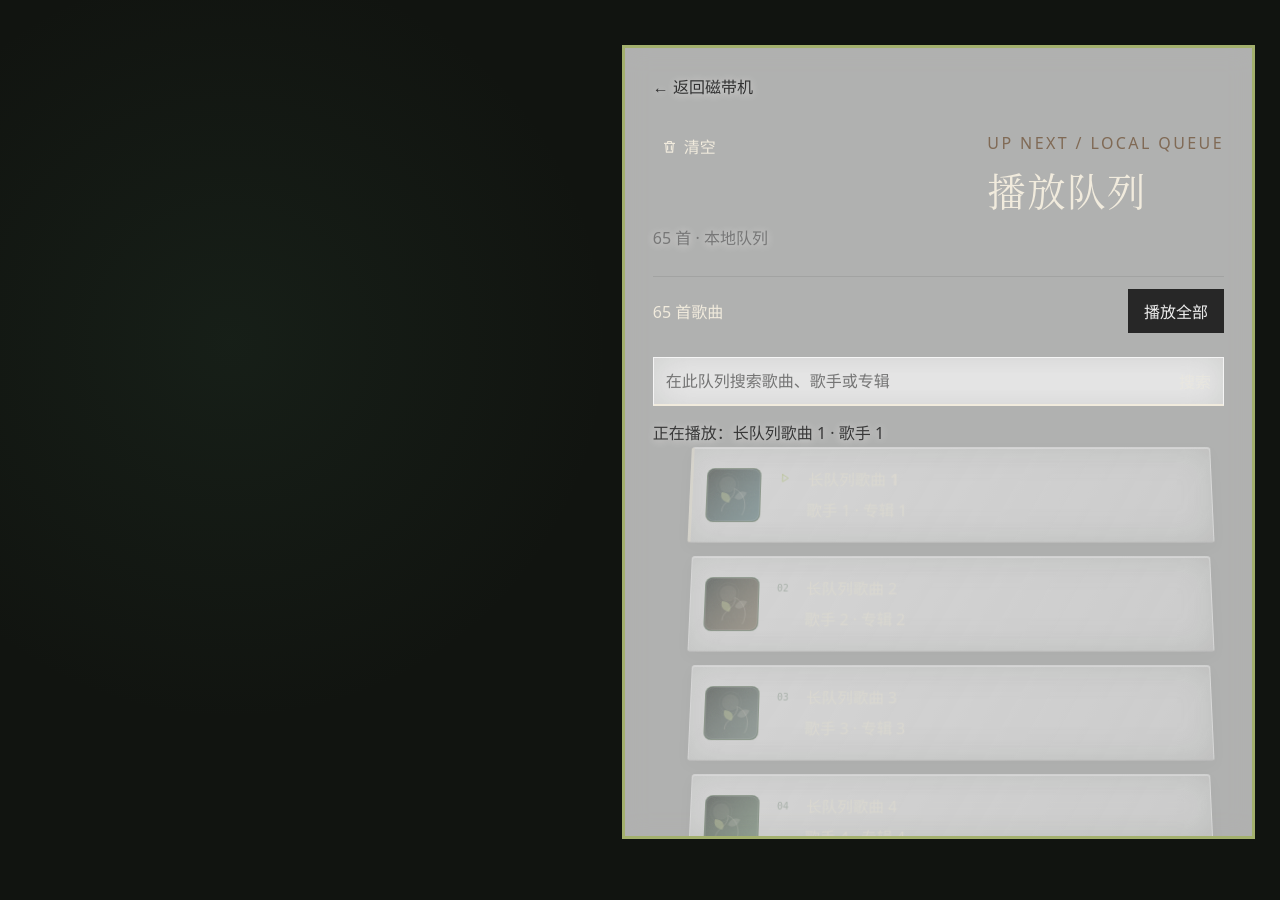
Test: 播放队列抽屉 › 莱茵队列搜索全队列并将跨页结果从第一页展示
This screenshot has width=1280, height=900.
Step 1. Type "跨页命中" into the search field named "在播放队列搜索" → point(910, 381), box [654, 358, 1167, 404]
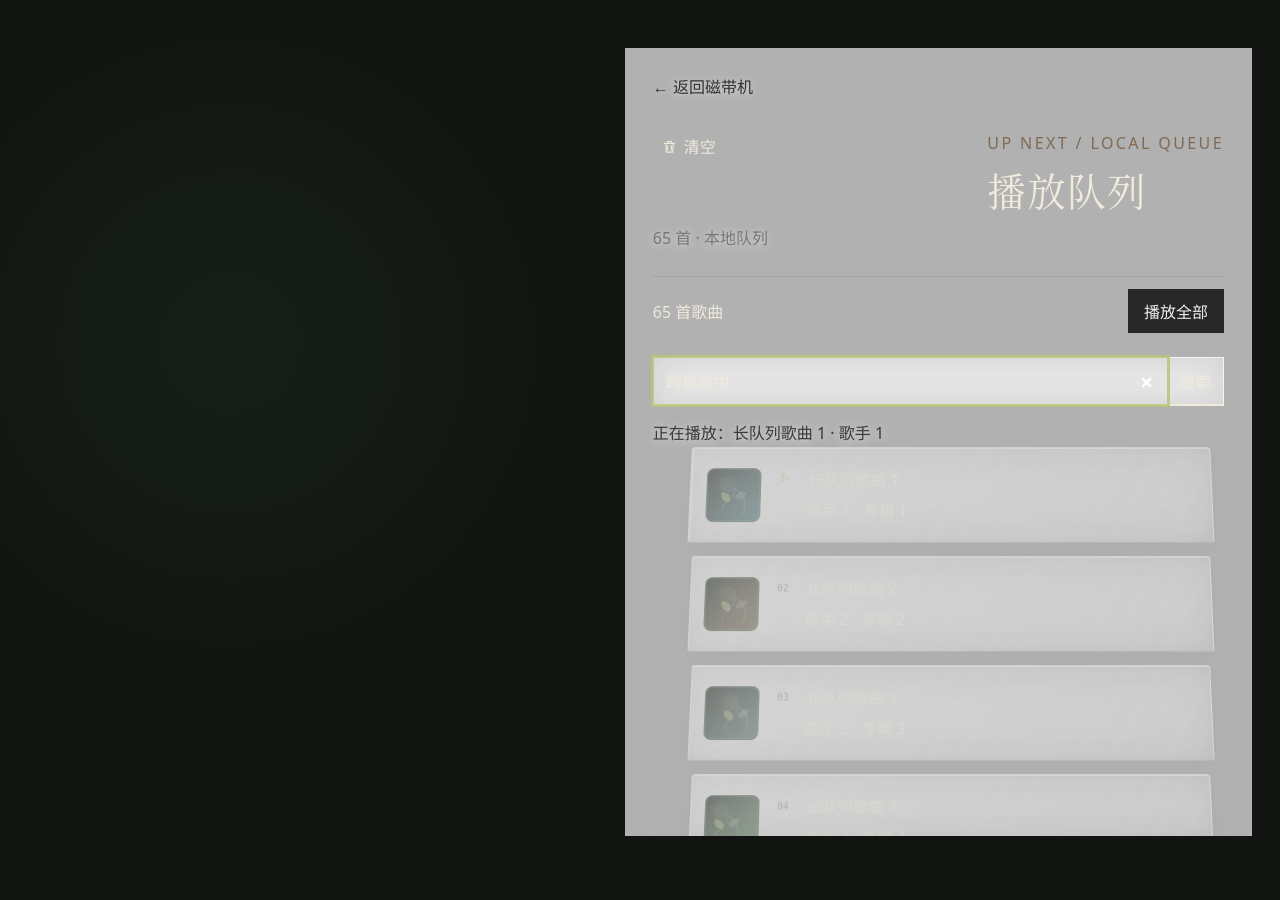
Step 2. Click the button "搜索" → point(1195, 381), box [1167, 358, 1223, 404]
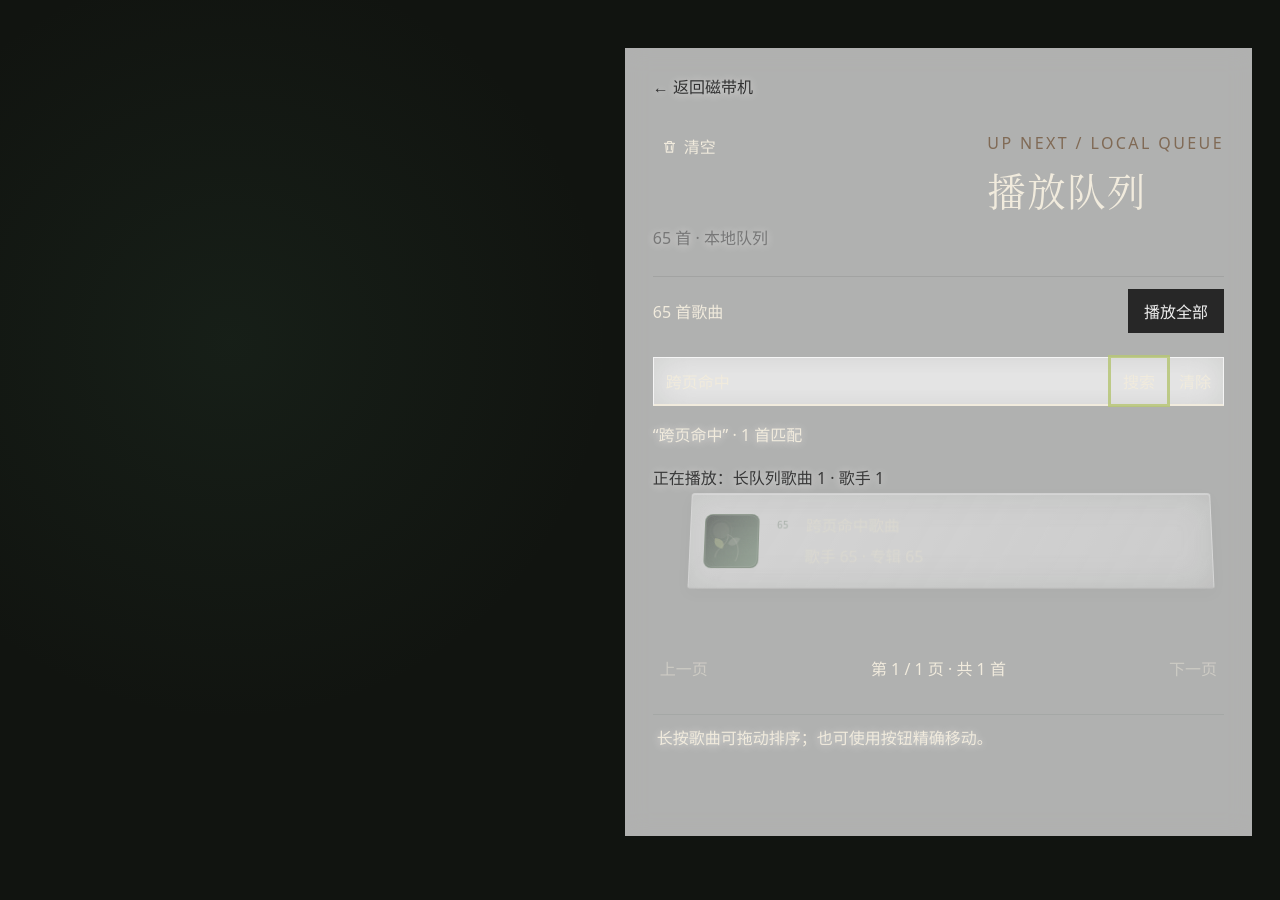
expect the number of list items is 1: met, box [687, 493, 1214, 588]
expect the text "65" is shown: met, box [777, 519, 789, 530]
expect the navigation bar named "播放队列分页" shows "第 1 / 1 页 · 共 1 首": met, box [653, 638, 1224, 698]
